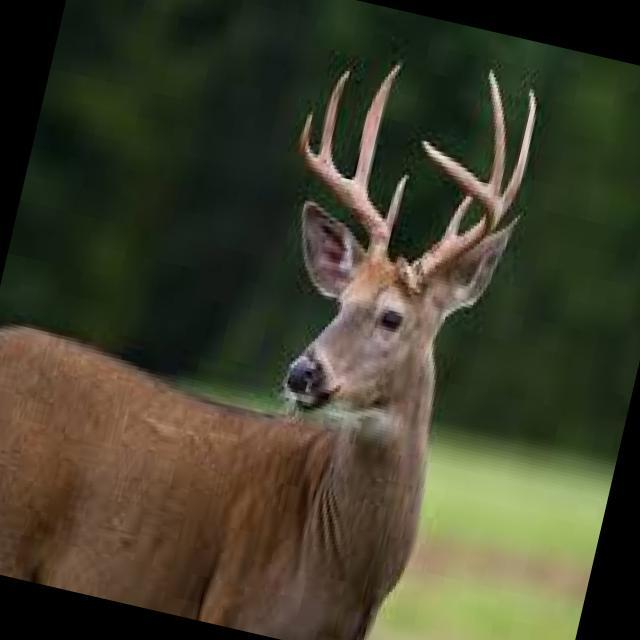L-F: (398, 138, 499, 294)
L-G1: (442, 197, 472, 239)
L-G2: (499, 86, 537, 220)
L-G3: (487, 67, 506, 194)
R-F: (298, 110, 391, 259)
R-G1: (384, 174, 409, 233)
R-G2: (352, 61, 403, 191)
R-G3: (318, 69, 350, 164)
